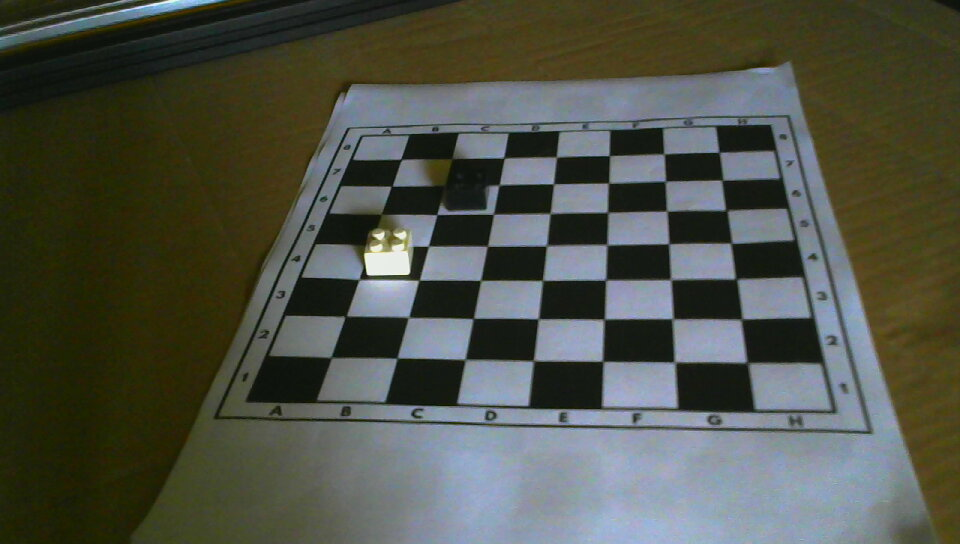bp: (445, 167, 491, 212)
wp: (363, 225, 414, 277)
